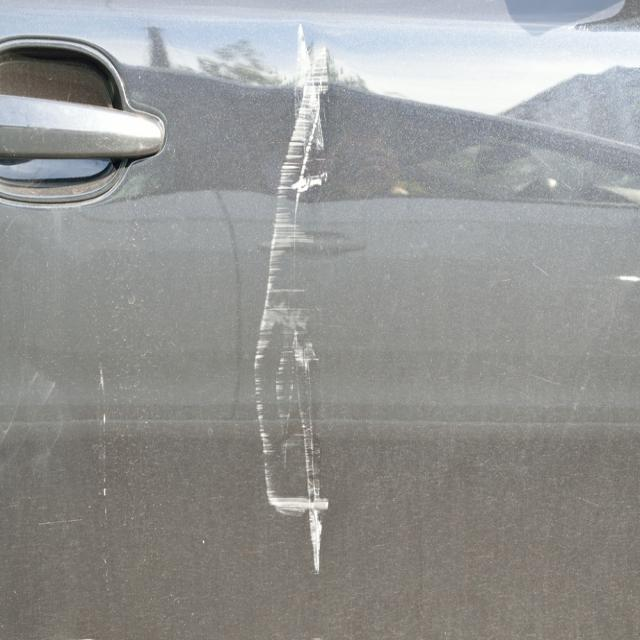scratch: (248, 24, 337, 573)
